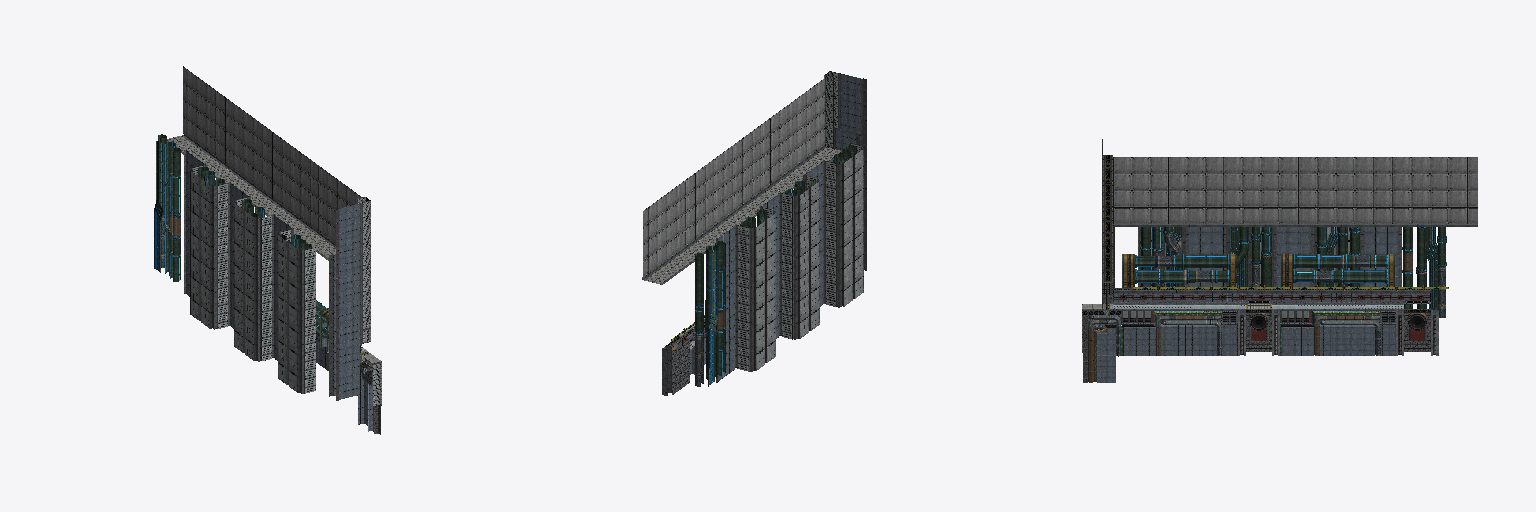
3 renders of one model, left to right at view 1: azimuth 30°, elevation 25°; view 2: azimuth 150°, elevation 25°; view 3: azimuth 270°, elevation 25°, orthographic.
Visible parts, largest first — view 1: polygon2, polygon57, polygon58, polygon53, polygon18, polygon56, polygon1, polygon59, polygon49, polygon55, polygon10, polygon0; view 2: polygon2, polygon57, polygon58, polygon18, polygon56, polygon59, polygon1, polygon53, polygon49, polygon11, polygon55, polygon0; view 3: polygon2, polygon10, polygon18, polygon23, polygon59, polygon38, polygon21, polygon22, polygon7, polygon57, polygon0, polygon11 (+12 smaller).
Part boxes in pixels (x1,y1,x2,y2): polygon2: (183, 66, 361, 244); polygon57: (190, 169, 301, 393); polygon58: (193, 165, 315, 393); polygon53: (333, 203, 359, 399); polygon18: (154, 134, 311, 281); polygon56: (184, 150, 304, 393); polygon1: (167, 136, 335, 258); polygon59: (187, 151, 291, 360); polygon49: (357, 197, 370, 360); polygon55: (329, 209, 338, 400); polygon10: (316, 339, 372, 431); polygon0: (167, 134, 335, 260); polygon2: (643, 77, 825, 277); polygon57: (752, 147, 863, 371); polygon58: (738, 143, 860, 371); polygon18: (695, 145, 856, 386); polygon56: (716, 146, 861, 382); polygon59: (718, 162, 822, 381); polygon1: (645, 147, 840, 283); polygon53: (836, 74, 861, 150); polygon49: (824, 71, 838, 162); polygon11: (672, 330, 705, 394); polygon55: (856, 78, 866, 270); polygon0: (642, 146, 833, 284); polygon2: (1113, 157, 1477, 223); polygon10: (1097, 324, 1395, 382); polygon18: (1140, 227, 1446, 309); polygon23: (1122, 254, 1394, 287); polygon59: (1189, 227, 1398, 325); polygon38: (1113, 293, 1430, 301); polygon21: (1088, 315, 1380, 381); polygon22: (1088, 311, 1379, 382); polygon7: (1113, 304, 1403, 324); polygon57: (1139, 227, 1360, 286); polygon0: (1113, 224, 1477, 226); polygon11: (1088, 309, 1432, 351).
Size of the model in its own units: 235 by 950 by 1500.
Materials: 25 (25 with a texture image).